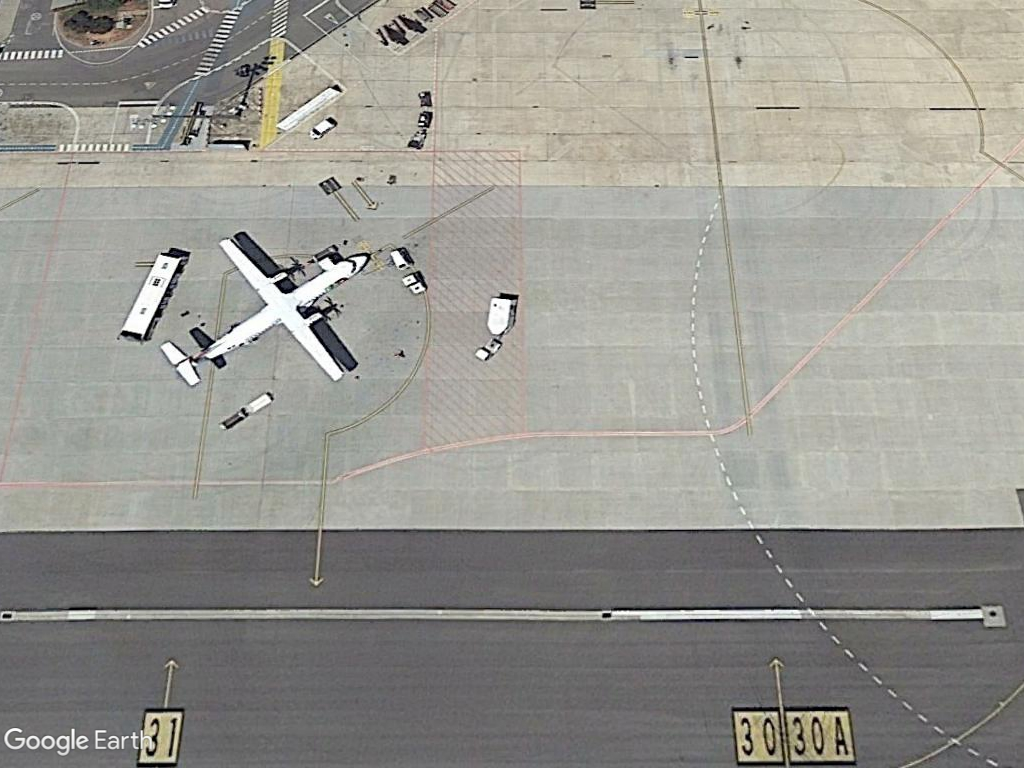bus: (112, 249, 190, 343)
propeller: (152, 233, 377, 406)
